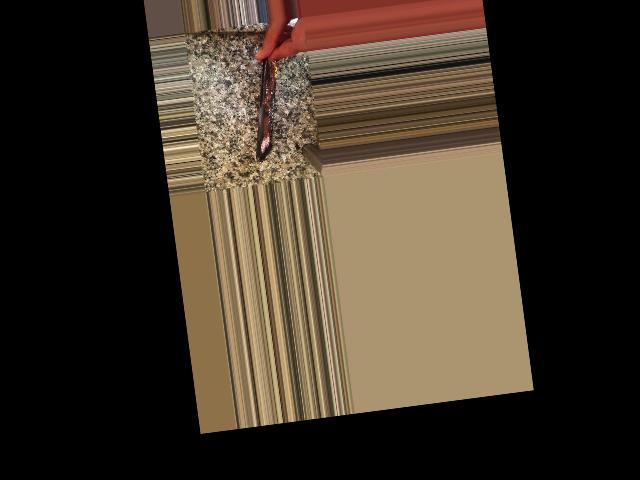chocolate: (235, 42, 297, 163)
